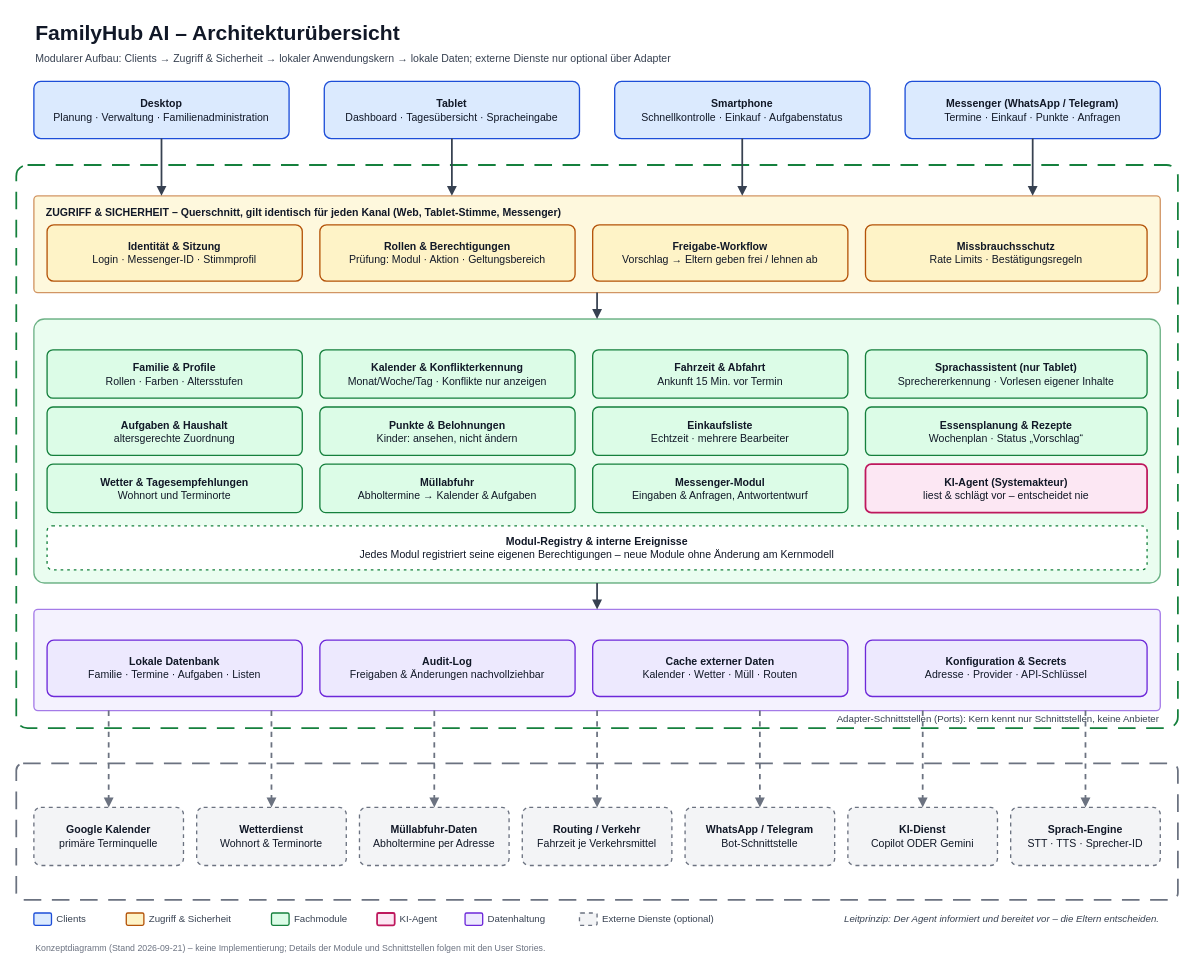
Some shapes in this 1193 by 972 pixel diagram are drawn without their labels. Each missing label, with the box of its shape:
ANWENDUNGSKERN – eigenständige, austauschbare Module: (33, 318, 1161, 583)
EXTERNE DIENSTE – optional, austauschbar, pro Modul nur bei Bedarf: (15, 762, 1178, 900)
LOKAL LAUFFÄHIGER KERN – ohne vollständige Cloud-Abhängigkeit nutzbar: (15, 164, 1178, 729)
LOKALE DATENHALTUNG: (33, 608, 1161, 711)
